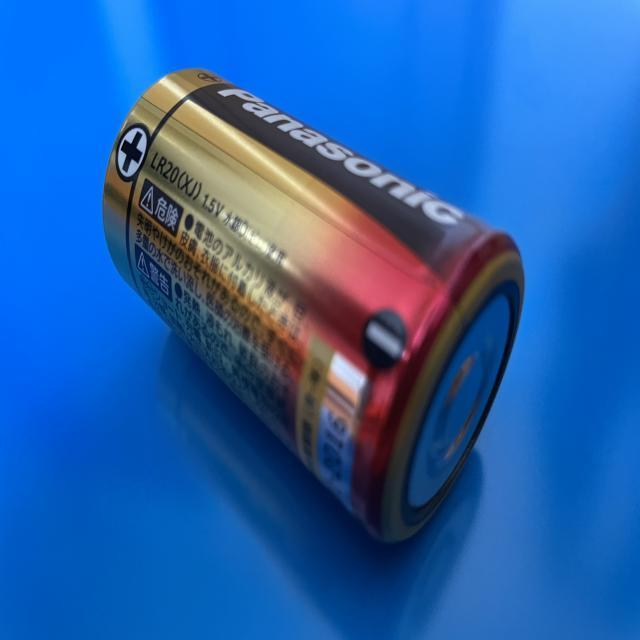Hazard: (100, 67, 528, 548)
